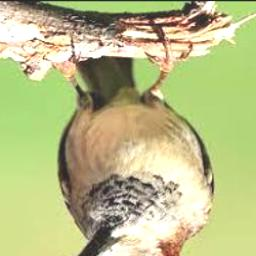Sparrow: (43, 34, 214, 256)
